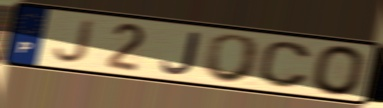2: (104, 21, 147, 74)
C: (256, 39, 313, 90)
J: (52, 18, 98, 65), (159, 31, 202, 77)
O: (201, 32, 265, 85), (310, 43, 368, 98)
